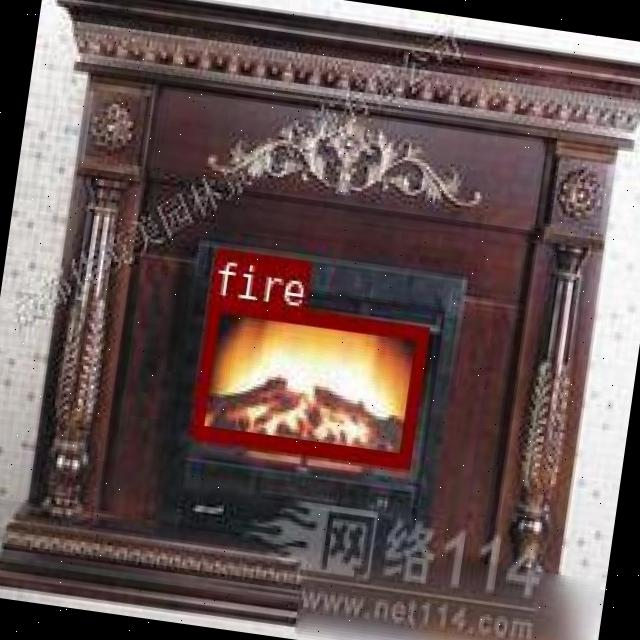fire: (188, 294, 426, 466)
